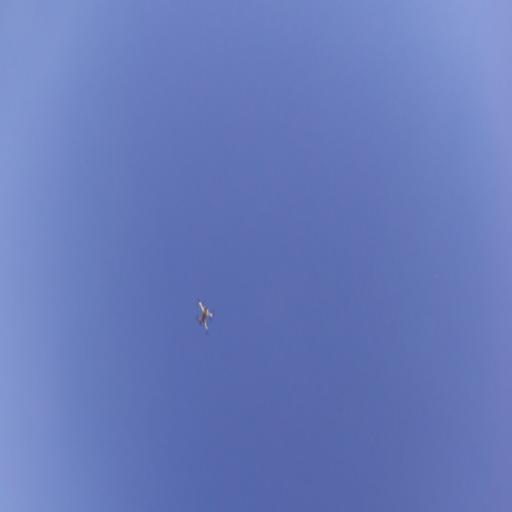drones: (195, 297, 216, 338)
